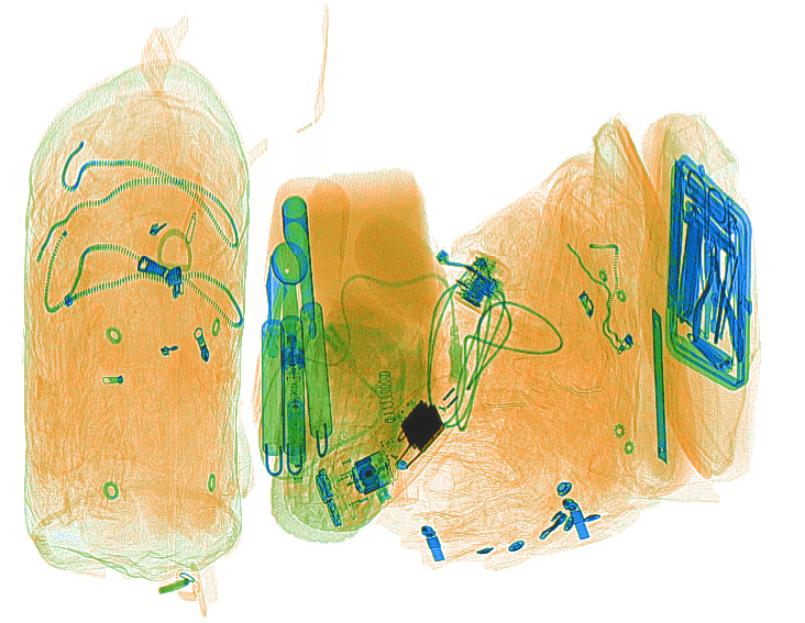battery: (285, 398, 307, 467)
plasticBottleWithaNozzle: (304, 166, 437, 507)
scissors: (684, 168, 729, 277)
